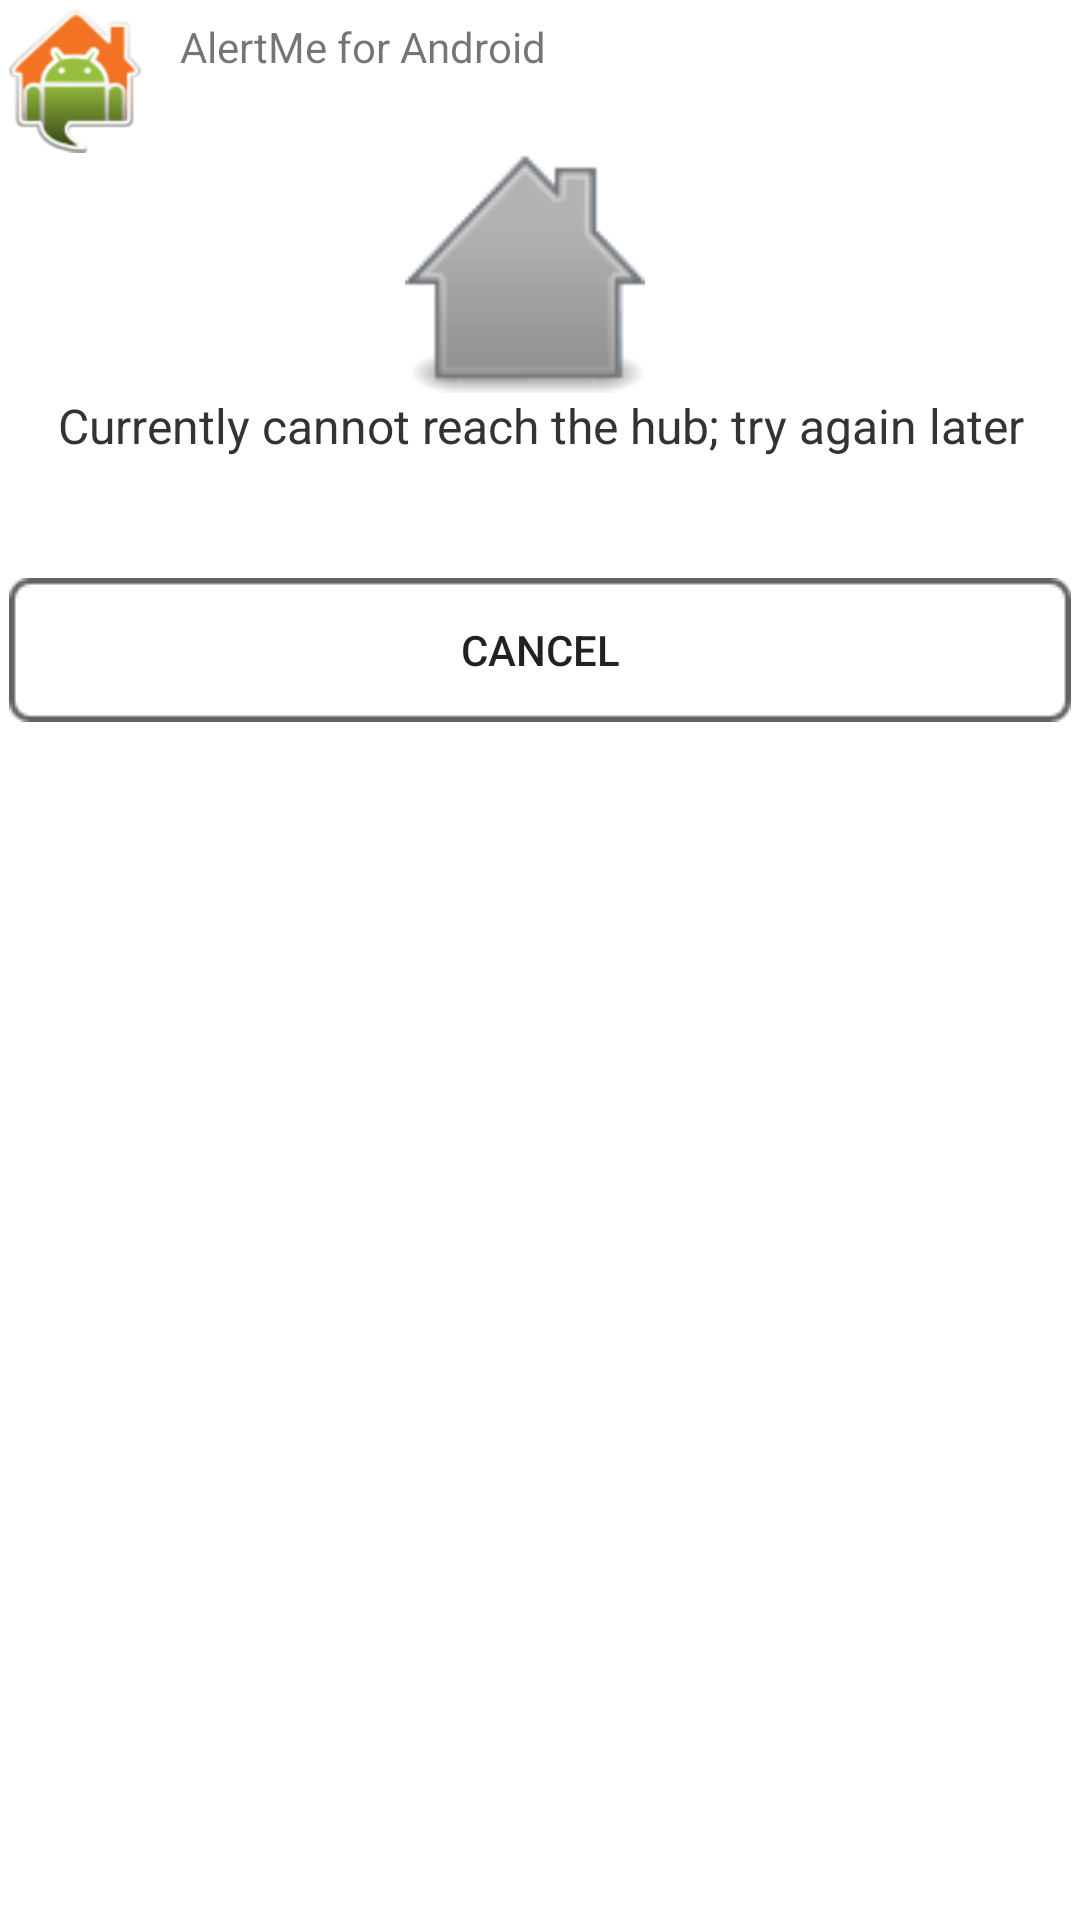

Icons on this 1080px x 1920px Android screen, each with the point to tap as (x=x, y=y):
home status offline: (x=525, y=273)
